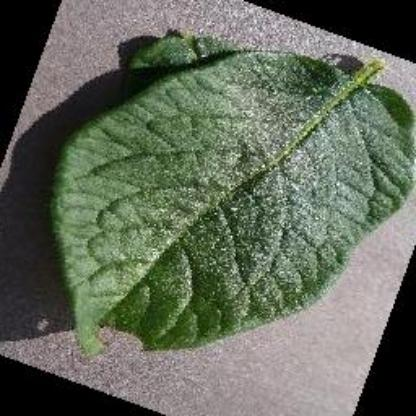Healthy-plant: (44, 30, 416, 366)
